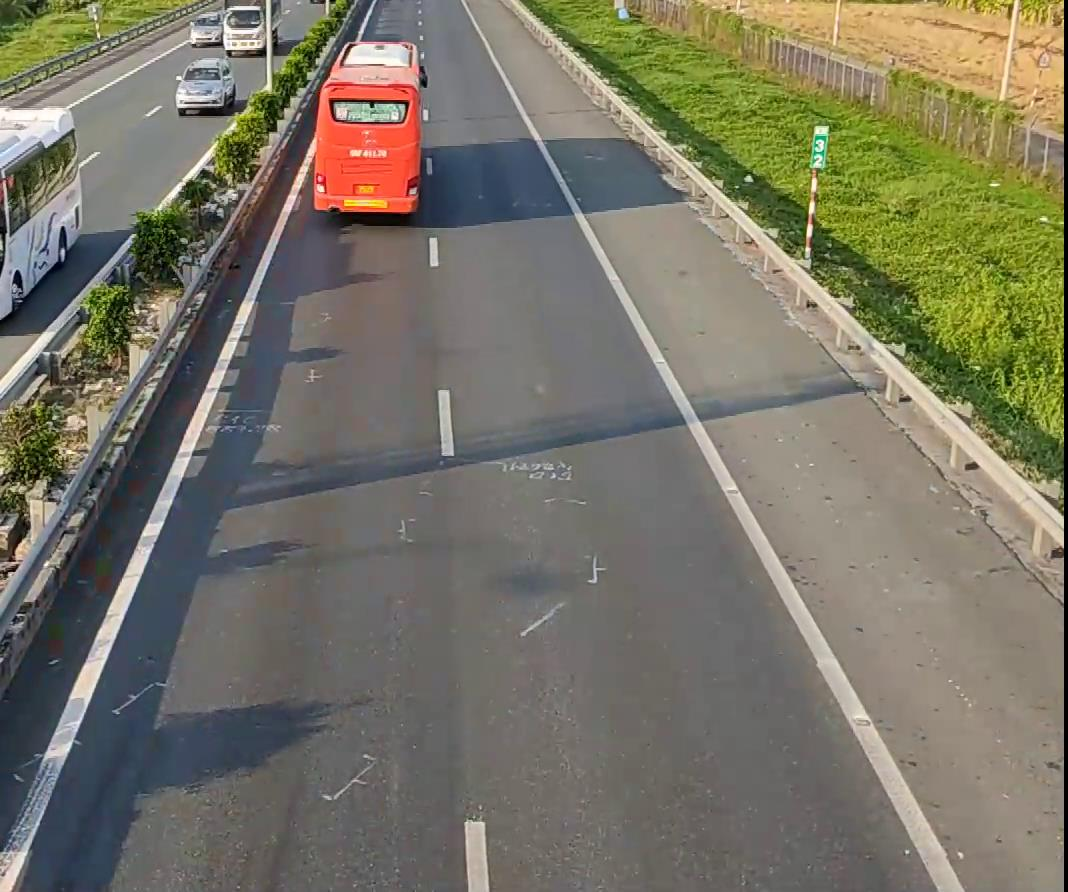bus: (309, 34, 425, 217), (0, 103, 84, 322)
